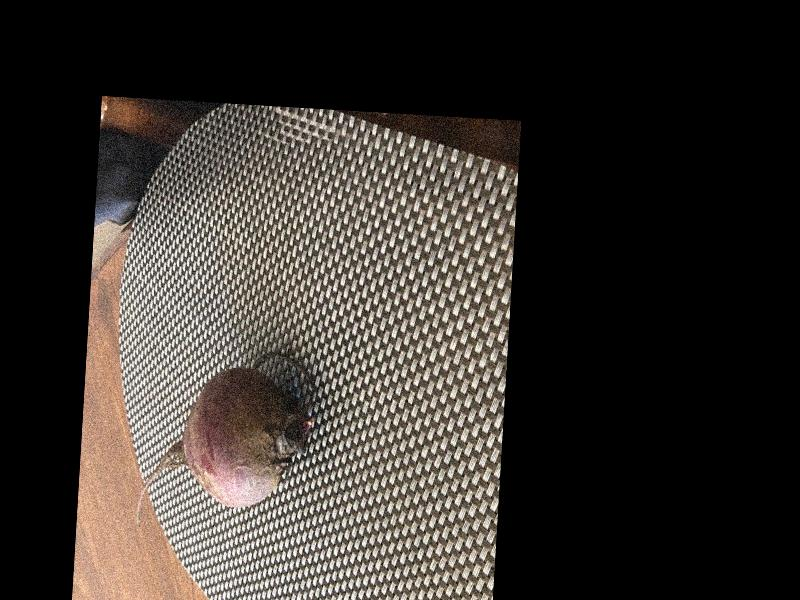Beet: (136, 342, 318, 534)
